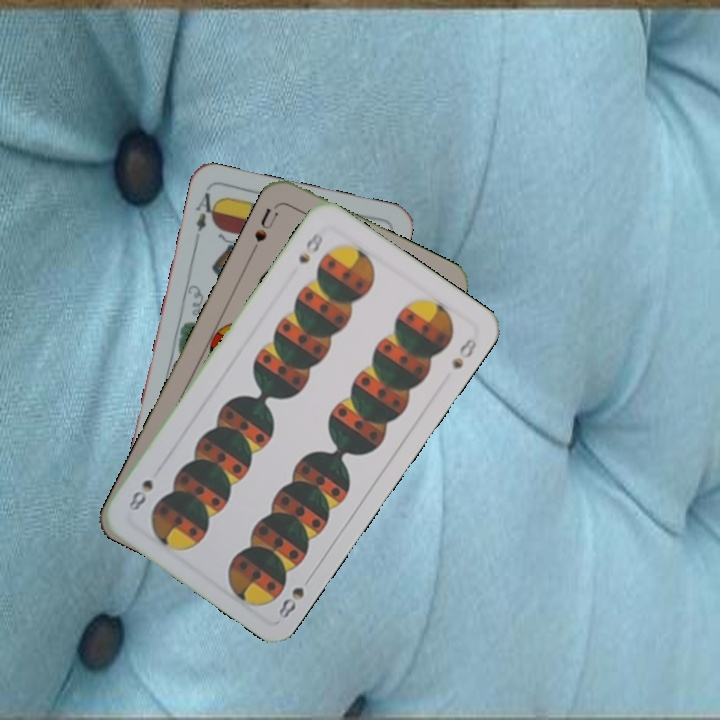EA: (191, 188, 221, 234)
S8: (274, 570, 316, 624), (294, 228, 326, 266)
SU: (247, 201, 282, 256)
